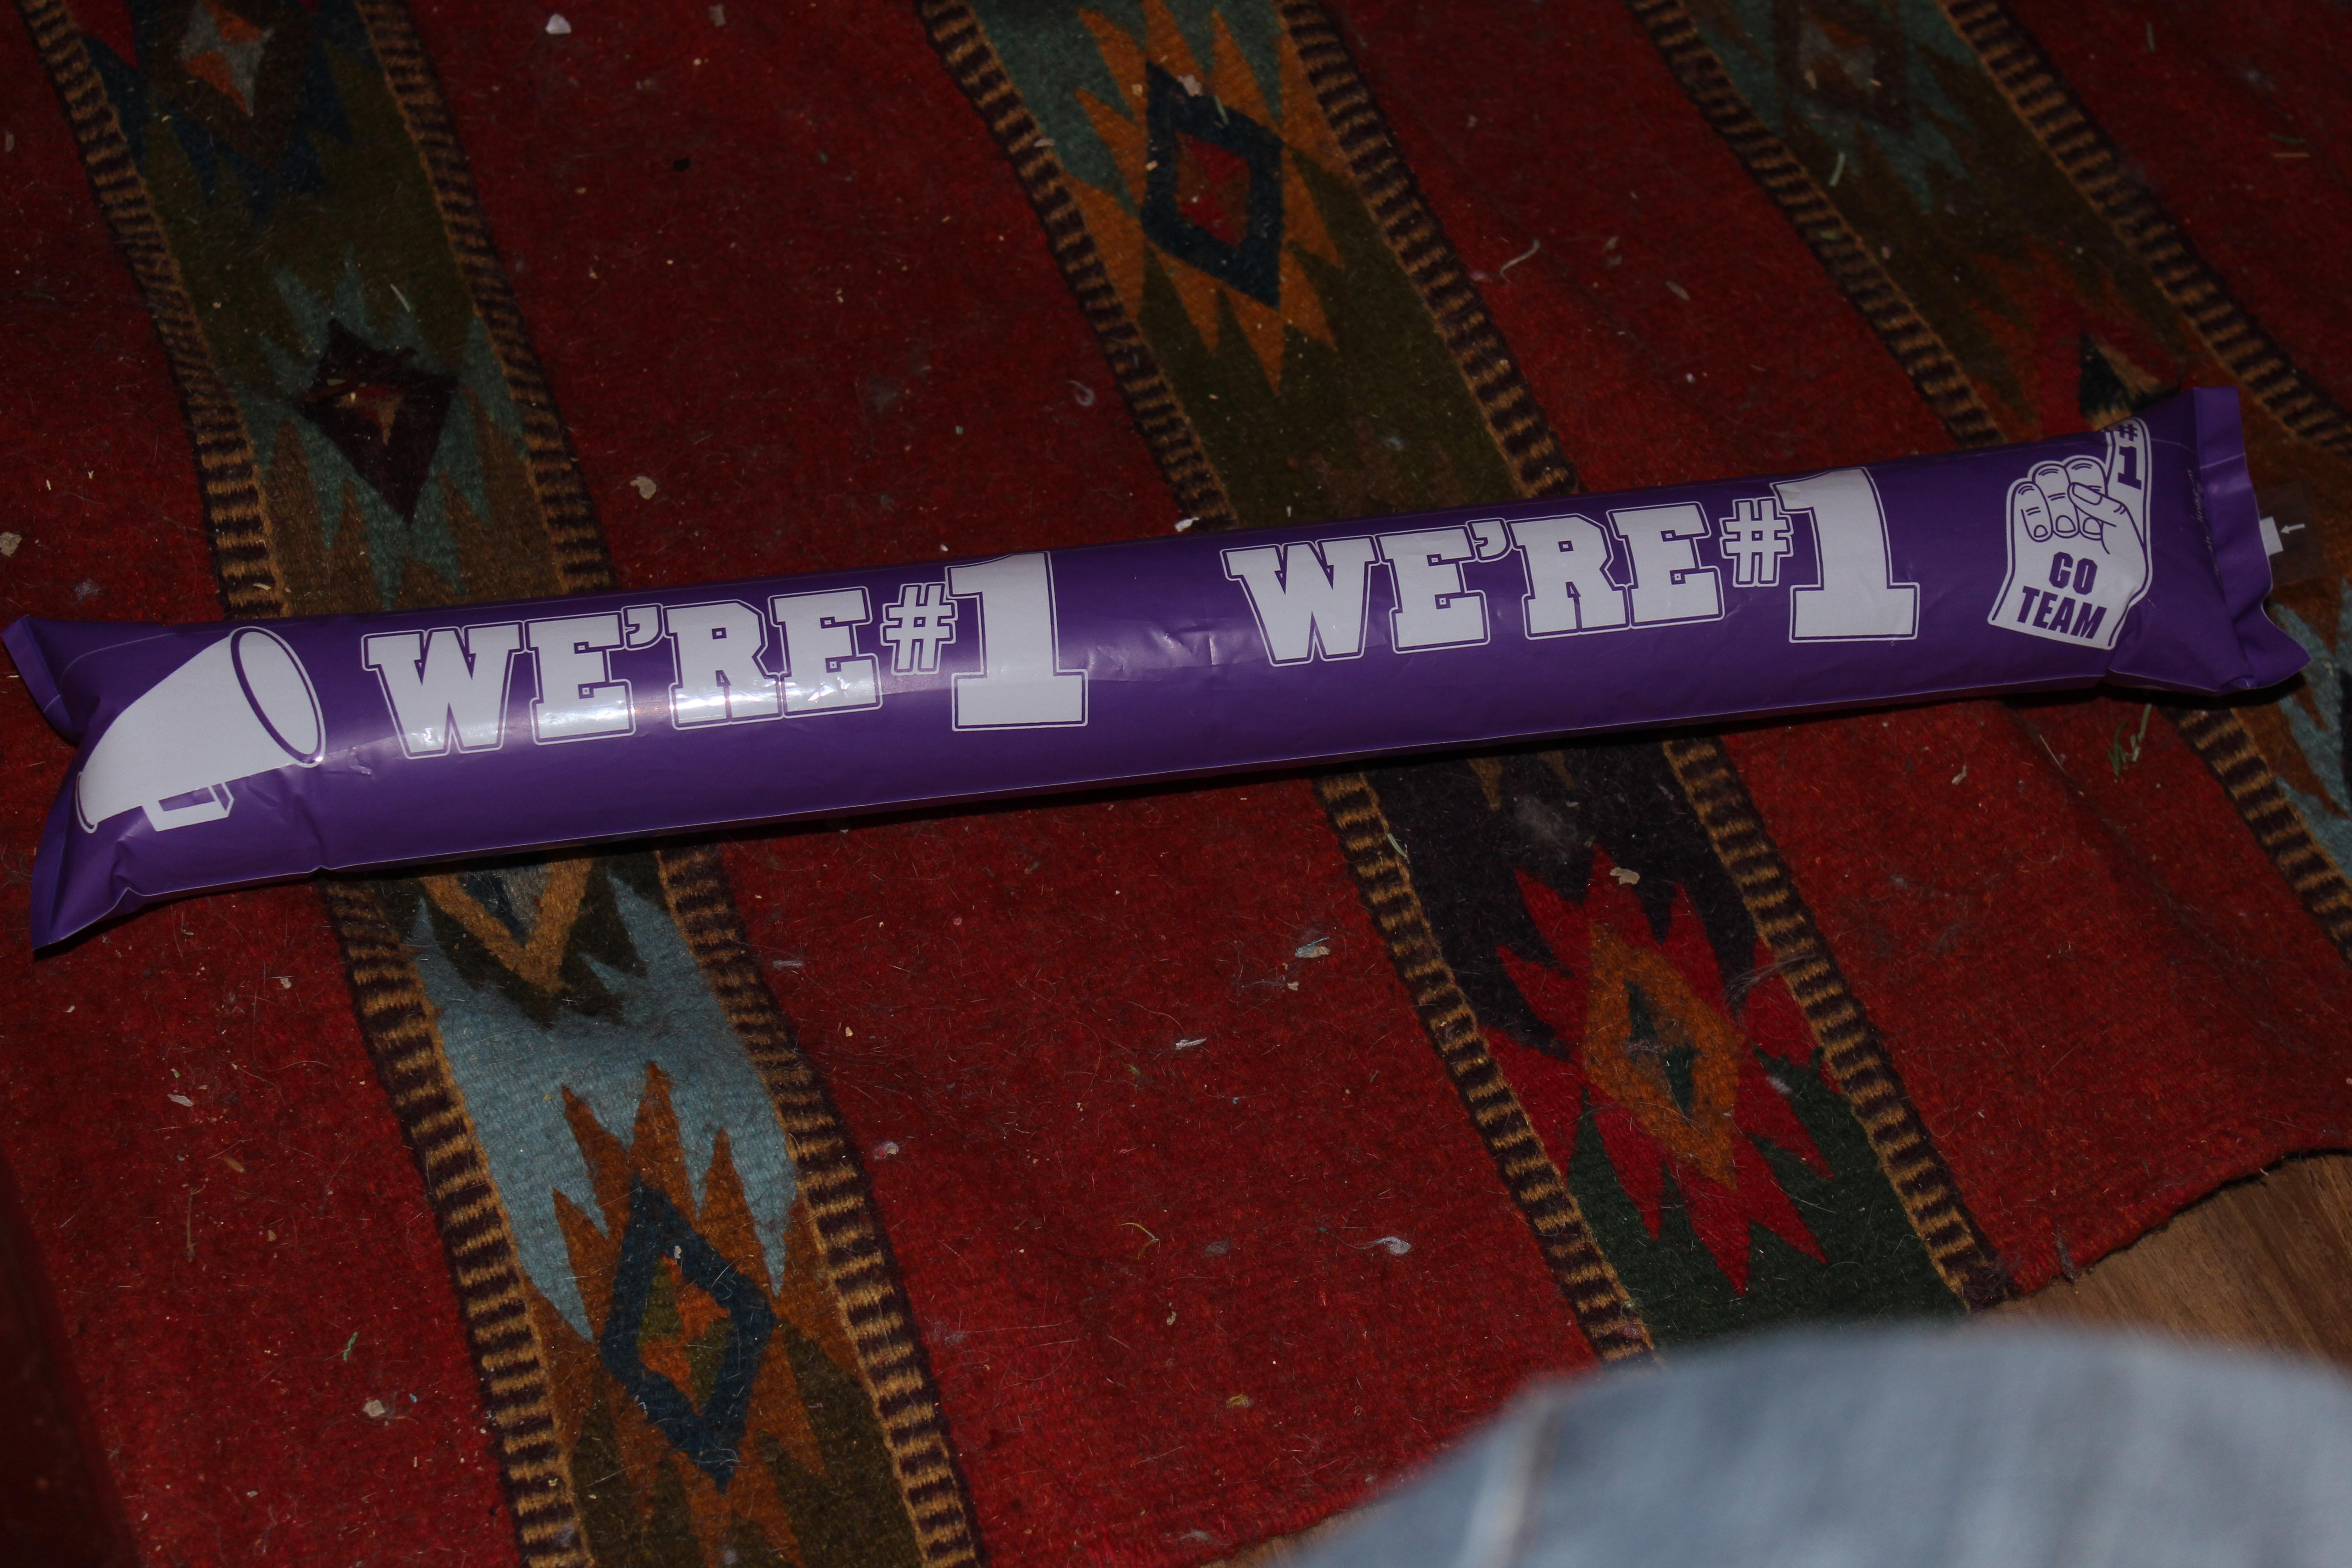noisemaker: (10, 315, 2307, 1001)
